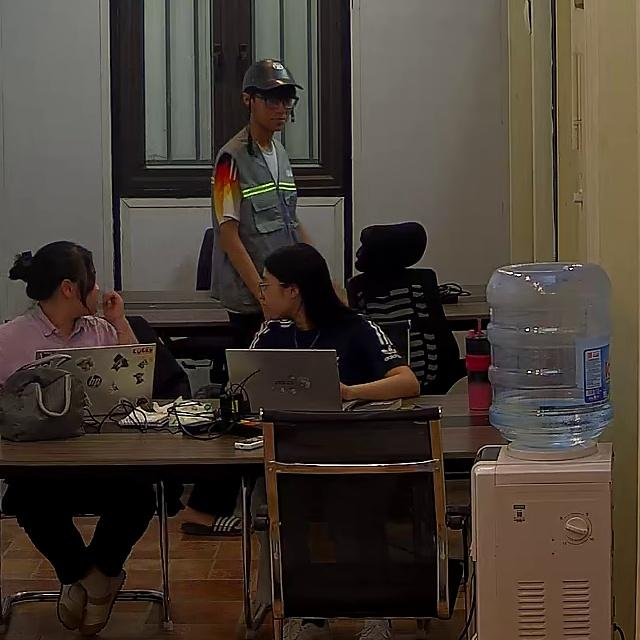helmet: (241, 57, 304, 95)
no_helmet: (263, 243, 350, 332), (10, 240, 95, 302)
none: (245, 308, 405, 391), (0, 305, 119, 394)
vest: (209, 126, 303, 313)
